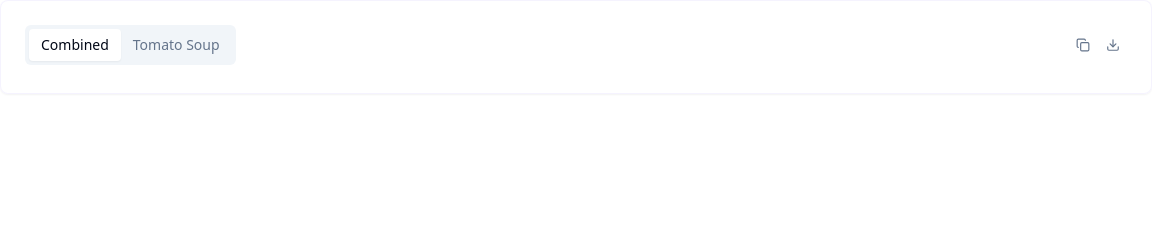
GroceryListSection › shows all per-recipe items when no pantry items provided
Click the tab "Tomato Soup": (176, 45) [121,29,232,61]
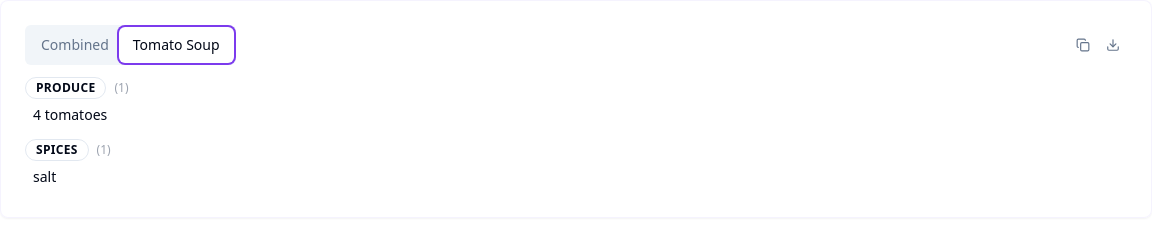
Expected: the text "Produce" is shown, [25,77,106,99]
Expected: the text "Spices" is shown, [25,139,89,161]
